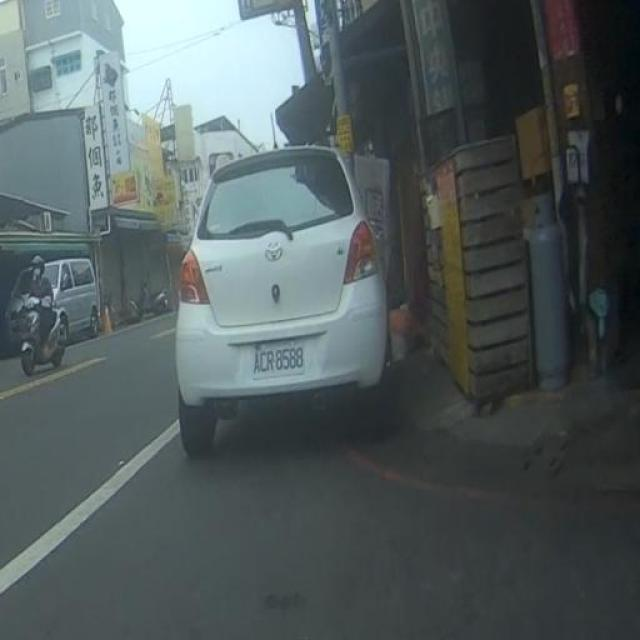Legalparking: (45, 260, 99, 340), (5, 269, 26, 346)
illegalparking: (175, 146, 388, 456)
